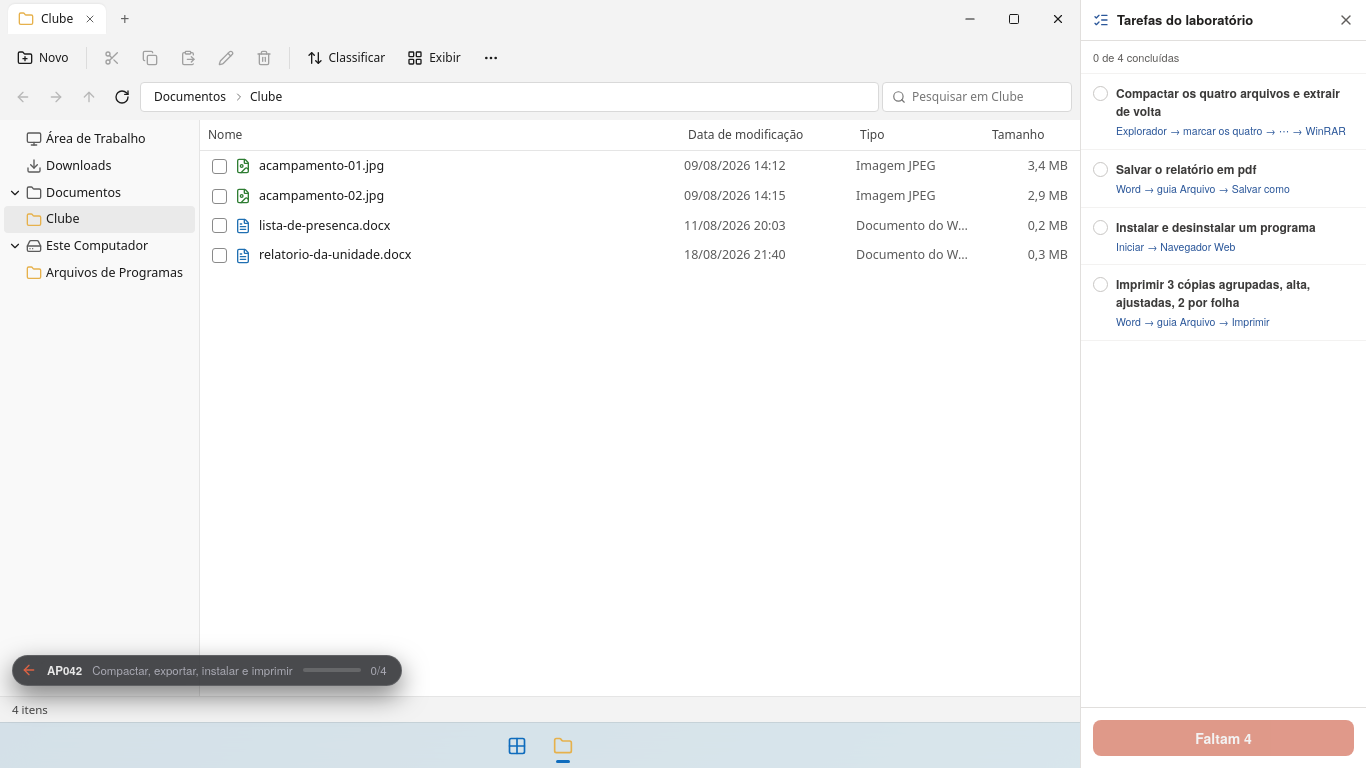
Test: instalar e desinstalar › recusa o site que junta programas grátis
Step 1. Click the button named "Iniciar" → (517, 746), box [497,726,537,764]
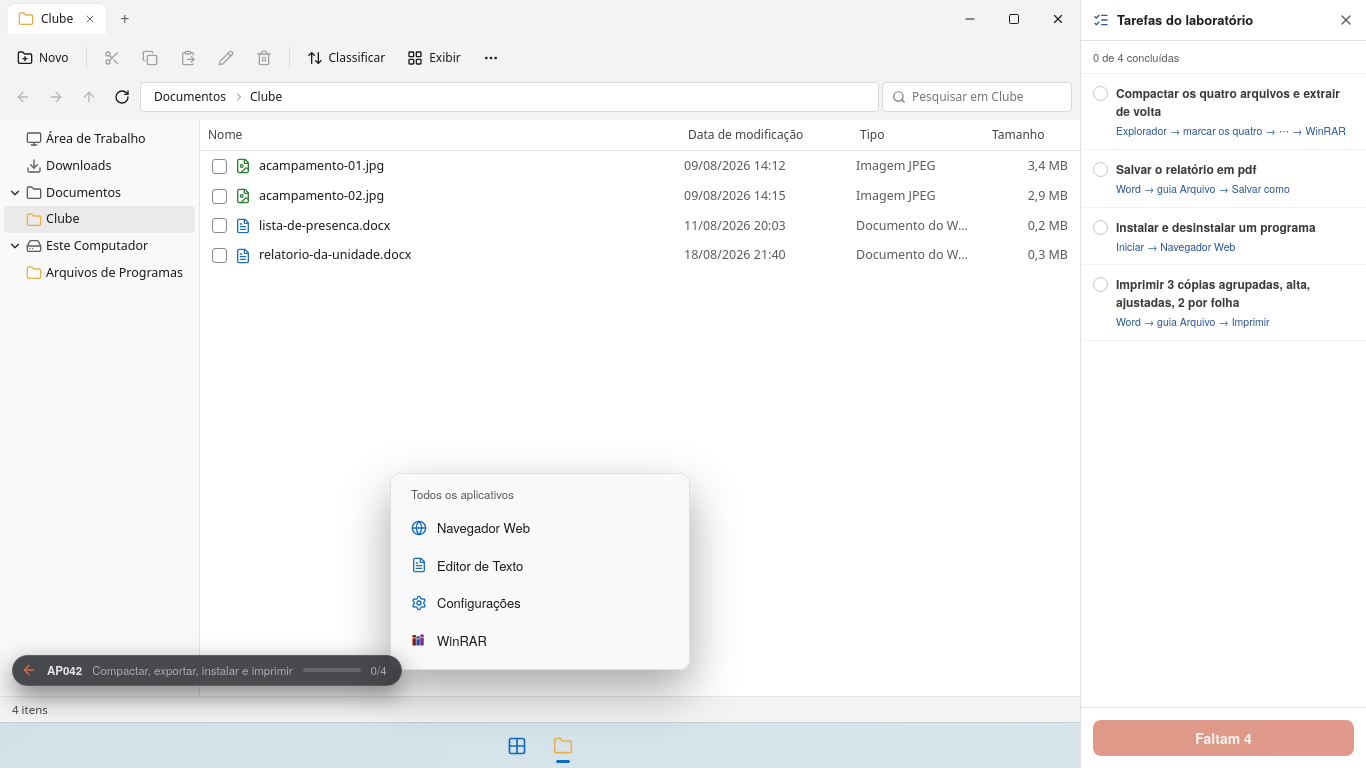
Step 2. Click the button "Navegador Web" → (483, 528), box [401,509,679,546]
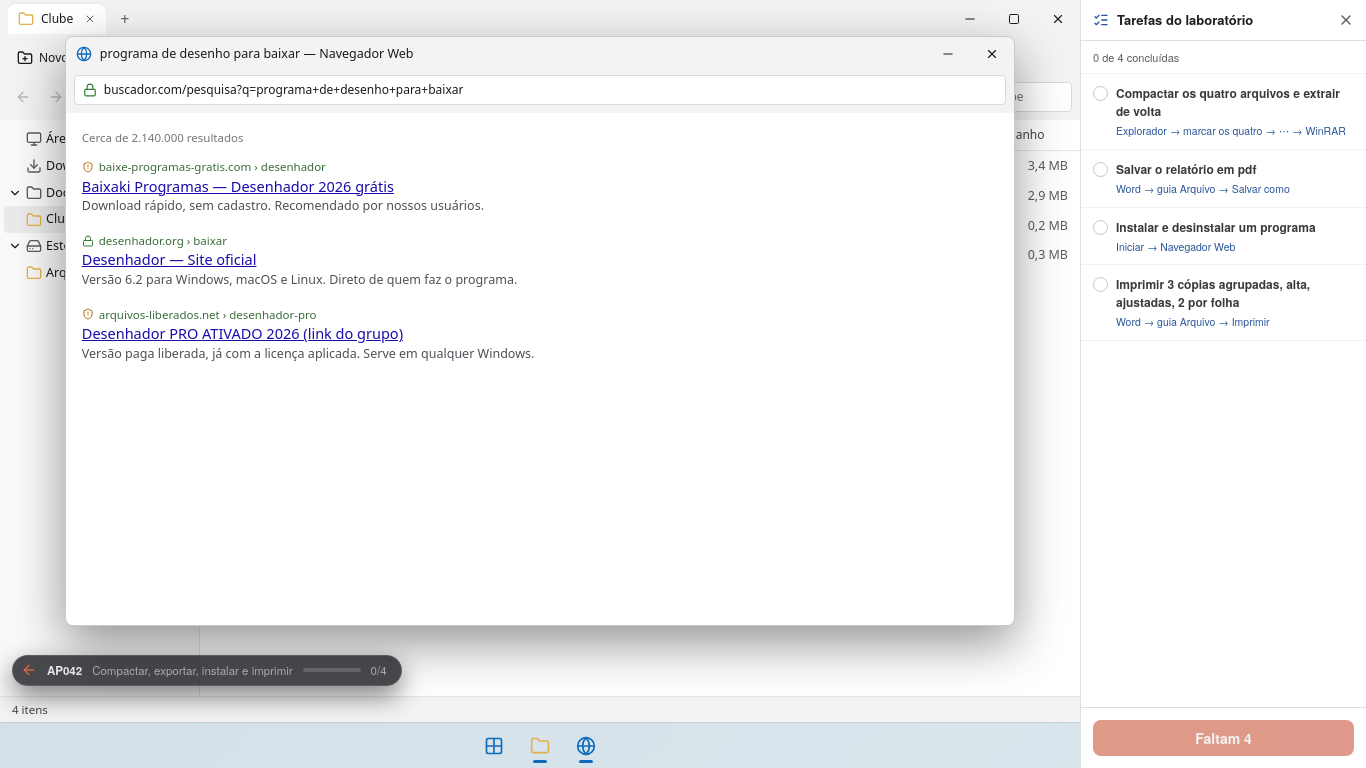
Step 3. Click the button that starts with "baixe-programas-gratis.com › desenhador" → (212, 167), box [82,158,998,216]
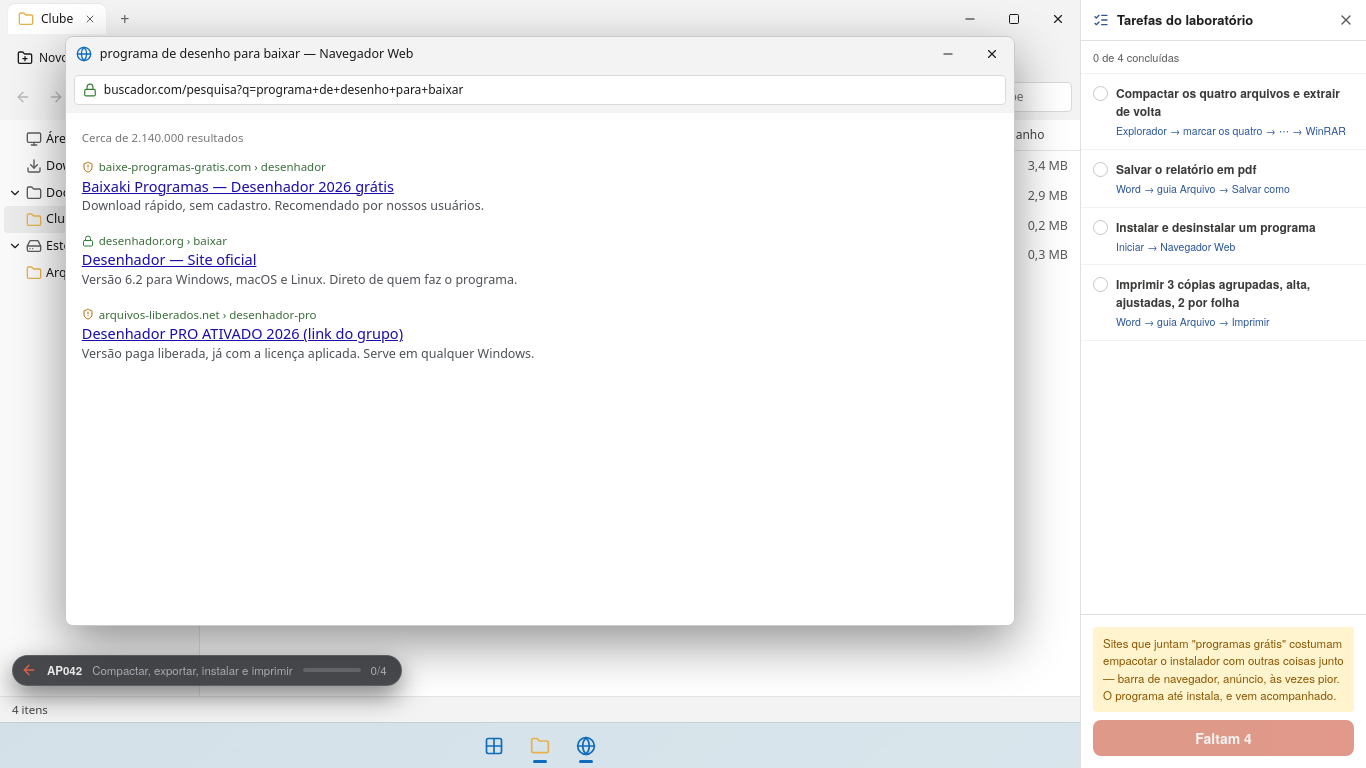
Check: the text "empacotar o instalador com outras coisas junto" is shown, box [1103,635,1344,703]
